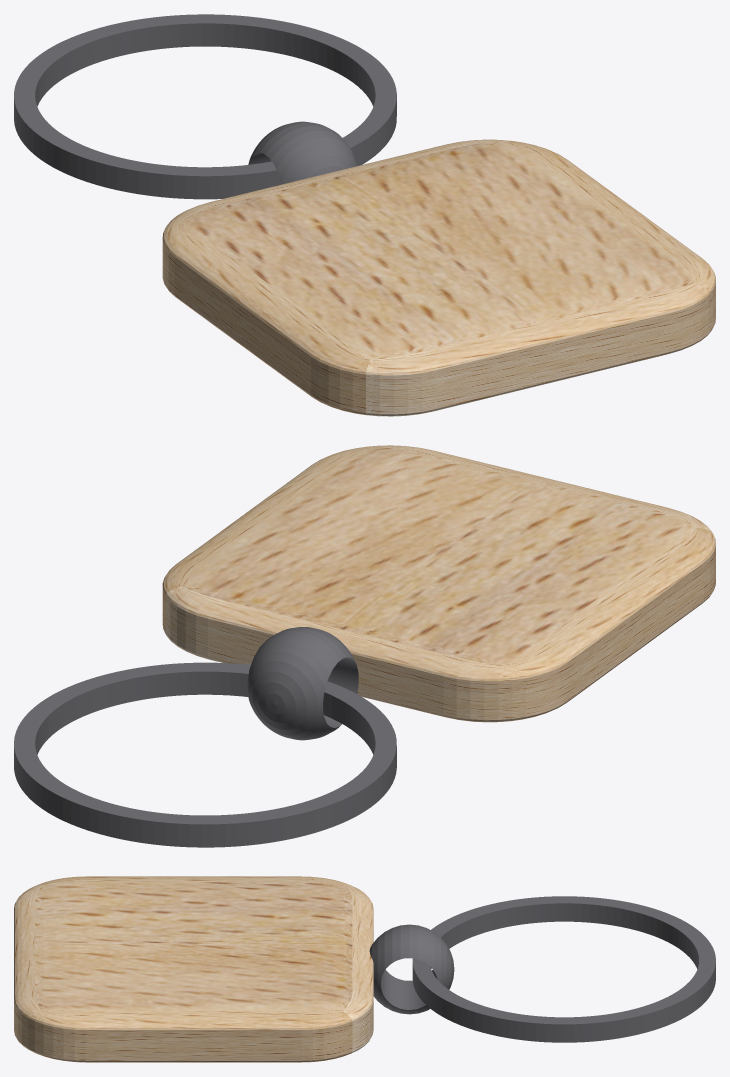
The model's file is cuadrado.glb.
3 views of the same model, one above another, from view 1: azimuth 30°, elevation 25°; view 2: azimuth 150°, elevation 25°; view 3: azimuth 270°, elevation 25° (orthographic). The views are drawn at different scales.
Visible parts, largest first — view 1: Cube.001, anilla, Sphere; view 2: Cube.001, anilla, Sphere; view 3: Cube.001, anilla, Sphere.
Boxes of the visible parts, x1,y1,x2,y2 form: Cube.001: (162, 139, 715, 416); anilla: (14, 14, 396, 199); Sphere: (248, 121, 356, 184); Cube.001: (162, 445, 715, 722); anilla: (14, 662, 396, 847); Sphere: (247, 627, 358, 740); Cube.001: (14, 876, 373, 1062); anilla: (412, 896, 715, 1042); Sphere: (369, 924, 454, 1014).
Size of the model in its own units: 0.04 by 0.01 by 0.0781.
Materials: 2 (1 with a texture image).
